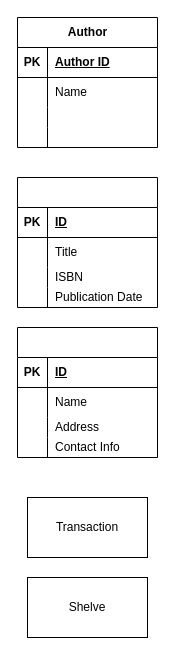
The diagram is 175 pixels wide and 655 high, and some of its shapes have lost their labels. The shapes that lost their labels are listed below. From the top down, each one's box as (x1, y1, x2, y2) in pixels, then its label:
(16, 176, 158, 308): Books
(16, 326, 158, 458): Borrowers
